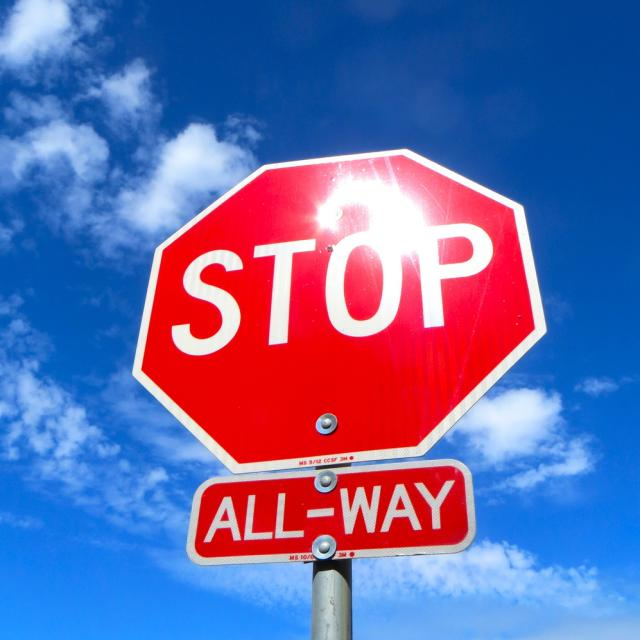Stop-sign: (133, 149, 547, 476)
